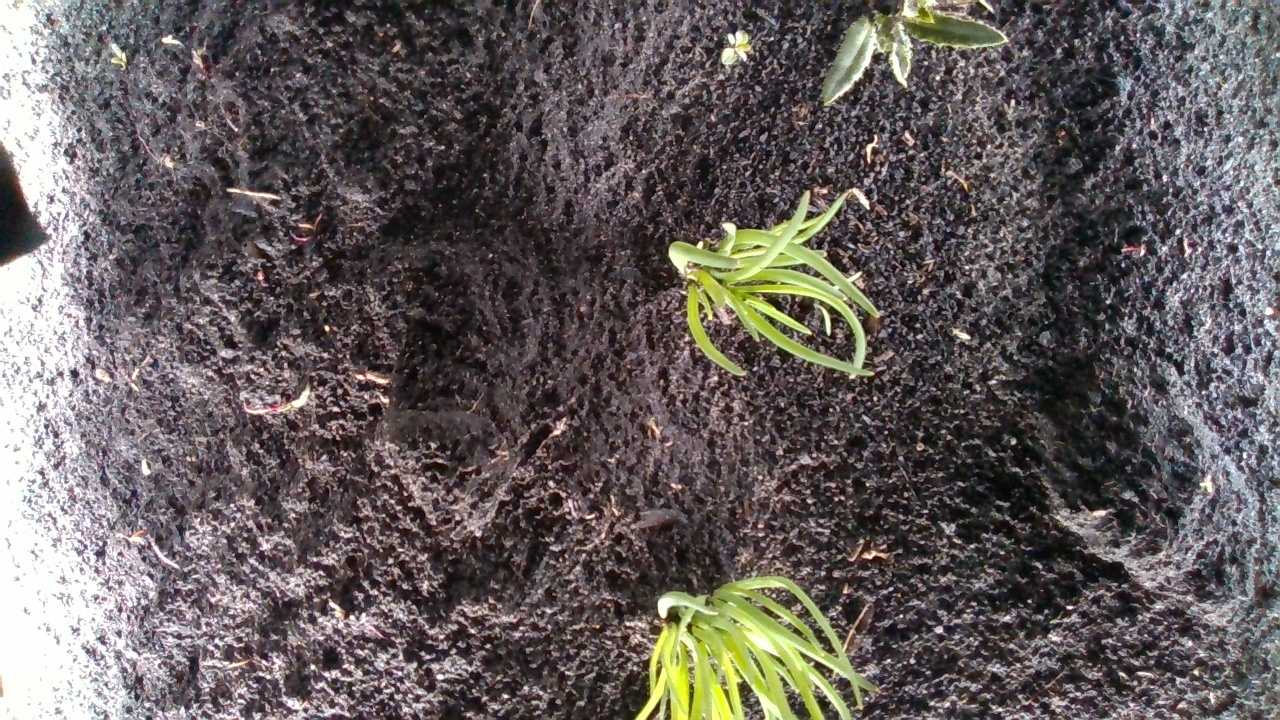weed: (723, 28, 750, 69), (104, 41, 128, 72)
